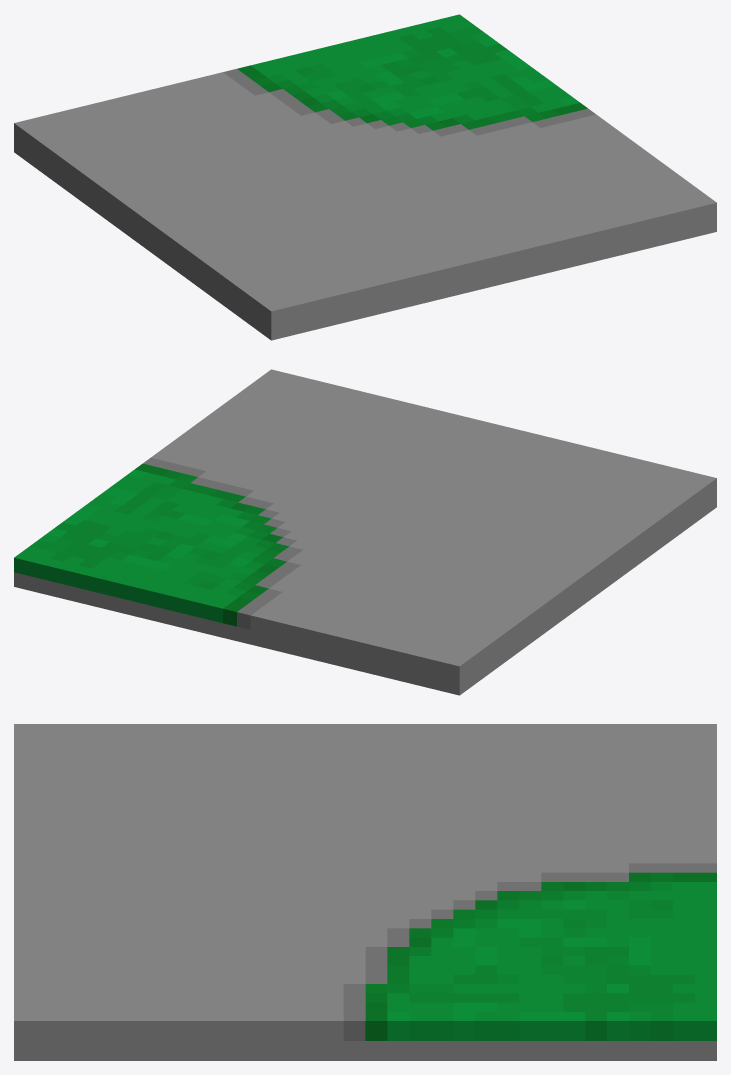
Rendered from forest-city-rounded-edge-outer-3.gltf.
3 views of the same model, one above another, from view 1: azimuth 30°, elevation 25°; view 2: azimuth 150°, elevation 25°; view 3: azimuth 270°, elevation 25° (orthographic). The views are drawn at different scales.
Parts seen in each view (by area): view 1: forest-city-rounded-edge-outer-3; view 2: forest-city-rounded-edge-outer-3; view 3: forest-city-rounded-edge-outer-3.
Boxes of the visible parts, <box> form: forest-city-rounded-edge-outer-3: <box>14,14,716,340</box>; forest-city-rounded-edge-outer-3: <box>14,369,716,695</box>; forest-city-rounded-edge-outer-3: <box>14,724,716,1060</box>.
Bounding box in the file's own units: 3.2 × 0.2 × 3.2.
1 material, 1 textured.
